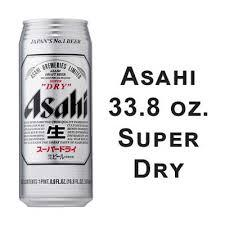beer: (18, 17, 94, 209)
